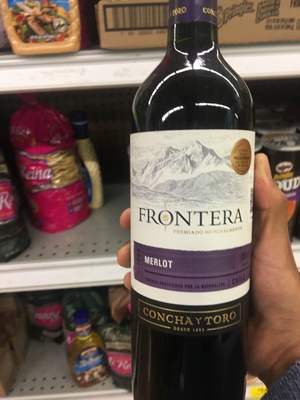frontera merlot: (112, 11, 277, 388)
